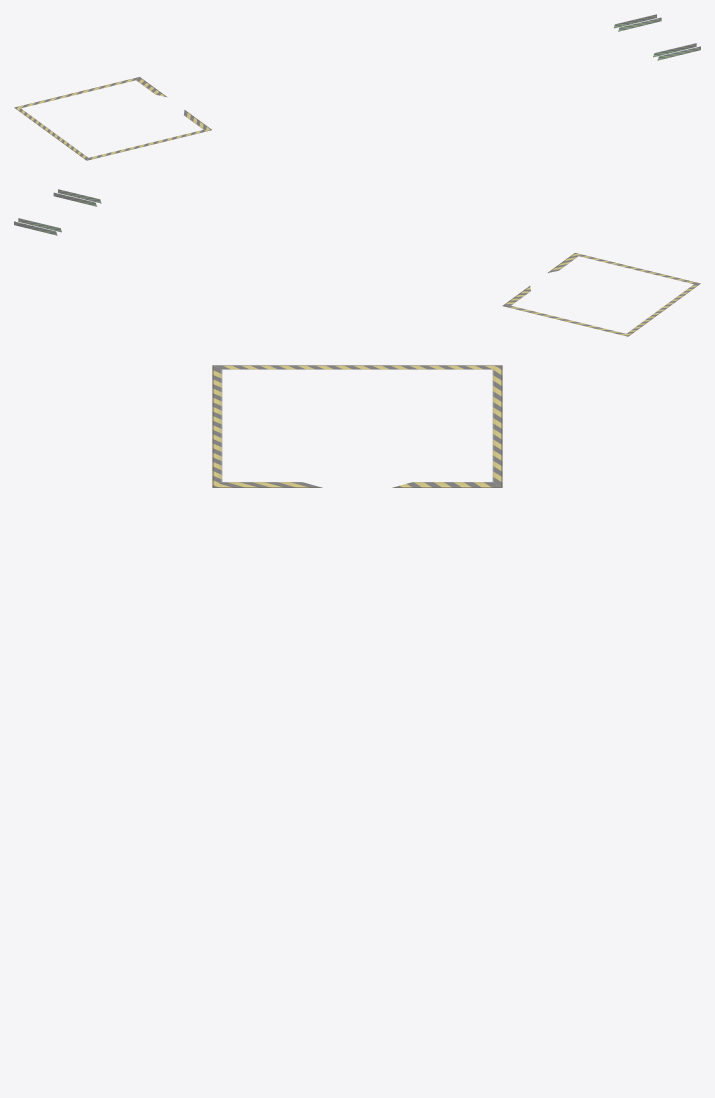
File: PelagicIIExploration_Alpha_72.glb
3 views of the same model, one above another, from view 1: azimuth 30°, elevation 25°; view 2: azimuth 150°, elevation 25°; view 3: azimuth 270°, elevation 25° (orthographic). The views are drawn at different scales.
Parts seen in each view (by area): view 1: PelagicIIExploration_Alpha_72; view 2: PelagicIIExploration_Alpha_72; view 3: PelagicIIExploration_Alpha_72.
Part boxes in pixels (x1,y1,x2,y2): PelagicIIExploration_Alpha_72: (14, 14, 700, 160); PelagicIIExploration_Alpha_72: (14, 189, 700, 336); PelagicIIExploration_Alpha_72: (212, 365, 502, 487).
Bounding box in the file's own units: 1014 × 81.25 × 203.
Materials: 1 (1 with a texture image).
